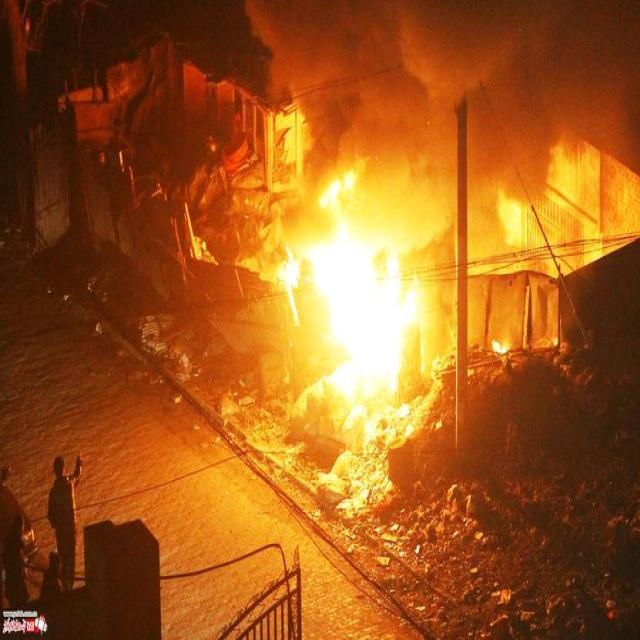Fire: (278, 166, 422, 406)
